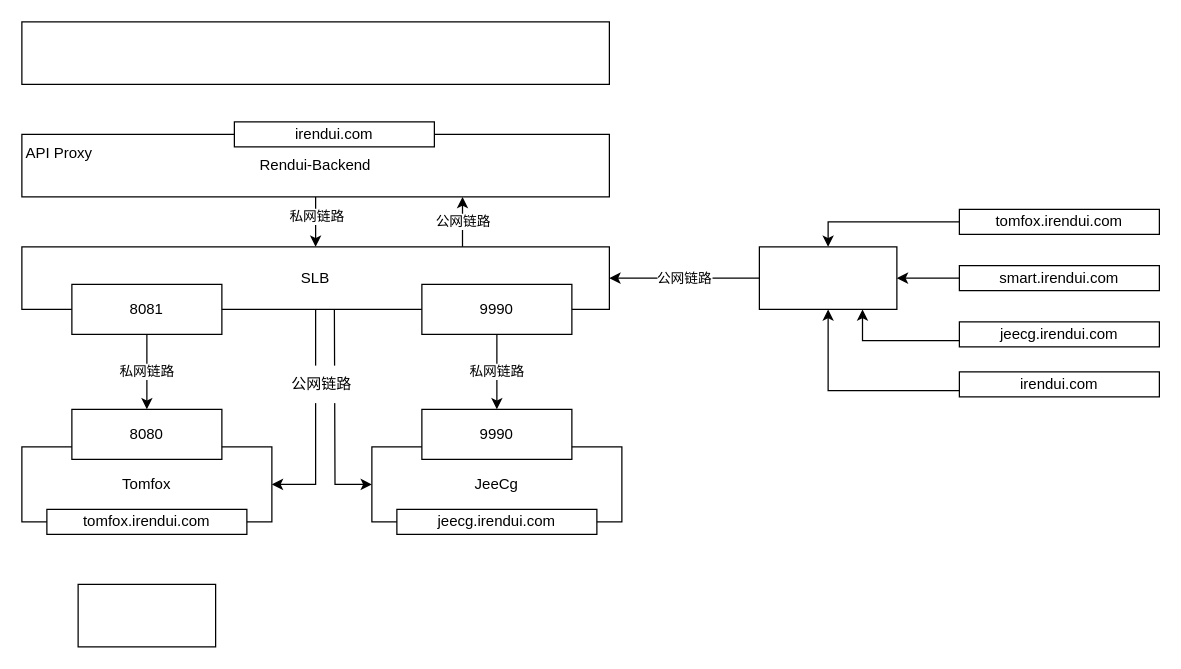
The diagram is 1181 pixels wide and 669 high, and some of its shapes have lost their labels. Here are the shapes that lost their labels. From the top down, the centre of each, then its label:
At (315,52): "SAE".
At (827,277): "公网EIP".
At (146,615): "Smart".
